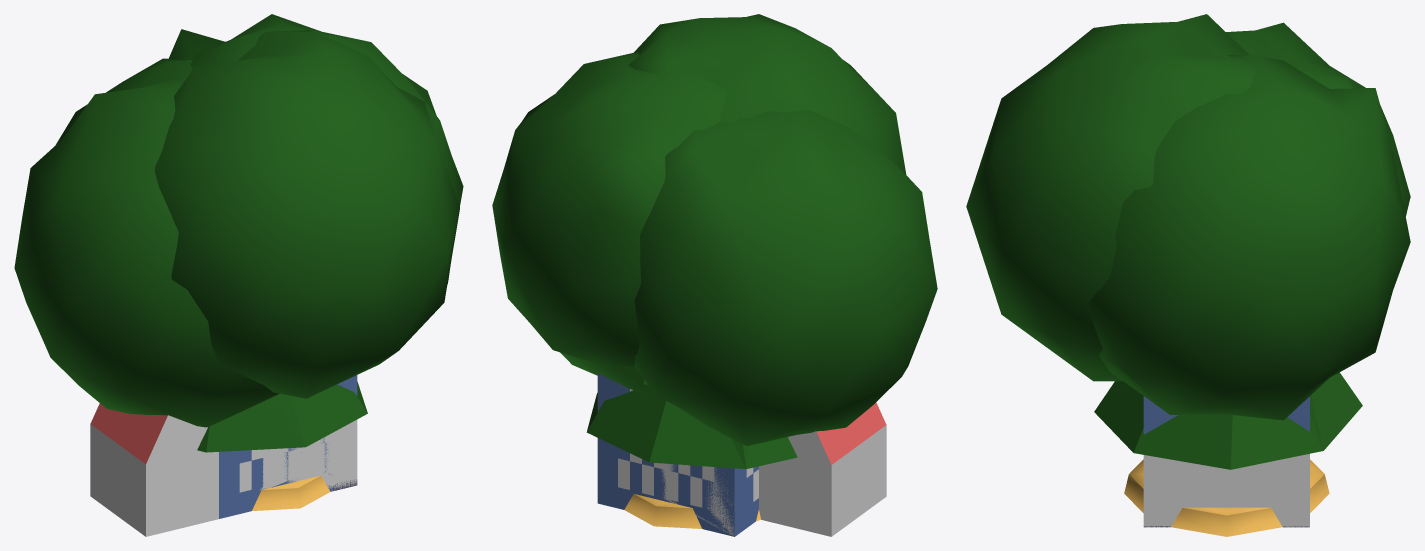
3 views of the same model, side by side, from view 1: azimuth 30°, elevation 25°; view 2: azimuth 150°, elevation 25°; view 3: azimuth 270°, elevation 25° (orthographic). The views are drawn at different scales.
Visible parts, largest first — view 1: DecoTreeRound, DecoHouse2, DecoTreePine, DecoHouse1, DecoBuilding, DecoCone; view 2: DecoTreeRound, DecoHouse2, DecoTreePine, DecoBuilding, DecoCone, DecoHouse1; view 3: DecoTreeRound, DecoTreePine, DecoHouse1, DecoCone, DecoBuilding.
Boxes of the visible parts, x1=… form: DecoTreeRound: x1=14, y1=14, x2=463, y2=427; DecoHouse2: x1=90, y1=403, x2=218, y2=536; DecoTreePine: x1=197, y1=381, x2=367, y2=452; DecoHouse1: x1=260, y1=420, x2=357, y2=490; DecoBuilding: x1=219, y1=375, x2=357, y2=518; DecoCone: x1=252, y1=475, x2=330, y2=510; DecoTreeRound: x1=492, y1=14, x2=937, y2=446; DecoHouse2: x1=759, y1=402, x2=886, y2=536; DecoTreePine: x1=586, y1=365, x2=797, y2=469; DecoBuilding: x1=597, y1=373, x2=758, y2=536; DecoCone: x1=624, y1=494, x2=760, y2=528; DecoHouse1: x1=661, y1=463, x2=734, y2=536; DecoTreeRound: x1=966, y1=14, x2=1410, y2=420; DecoTreePine: x1=1094, y1=372, x2=1362, y2=469; DecoHouse1: x1=1143, y1=453, x2=1309, y2=527; DecoCone: x1=1124, y1=459, x2=1329, y2=536; DecoBuilding: x1=1143, y1=396, x2=1309, y2=434.
Size of what is drawn, in the model's own units: 0.2851 by 0.2672 by 0.3036.
